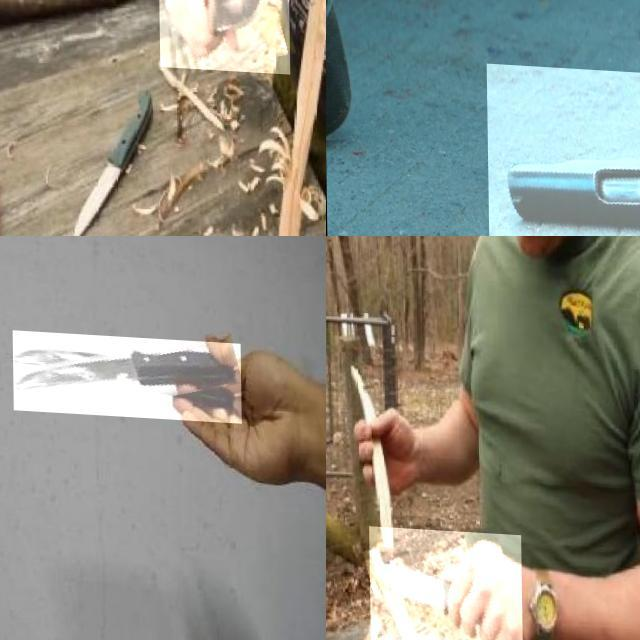-: (12, 327, 242, 418), (367, 523, 521, 640), (157, 0, 289, 70)
gun-knife-thesis - v11 Yolov5 augmented: (486, 61, 640, 236)
